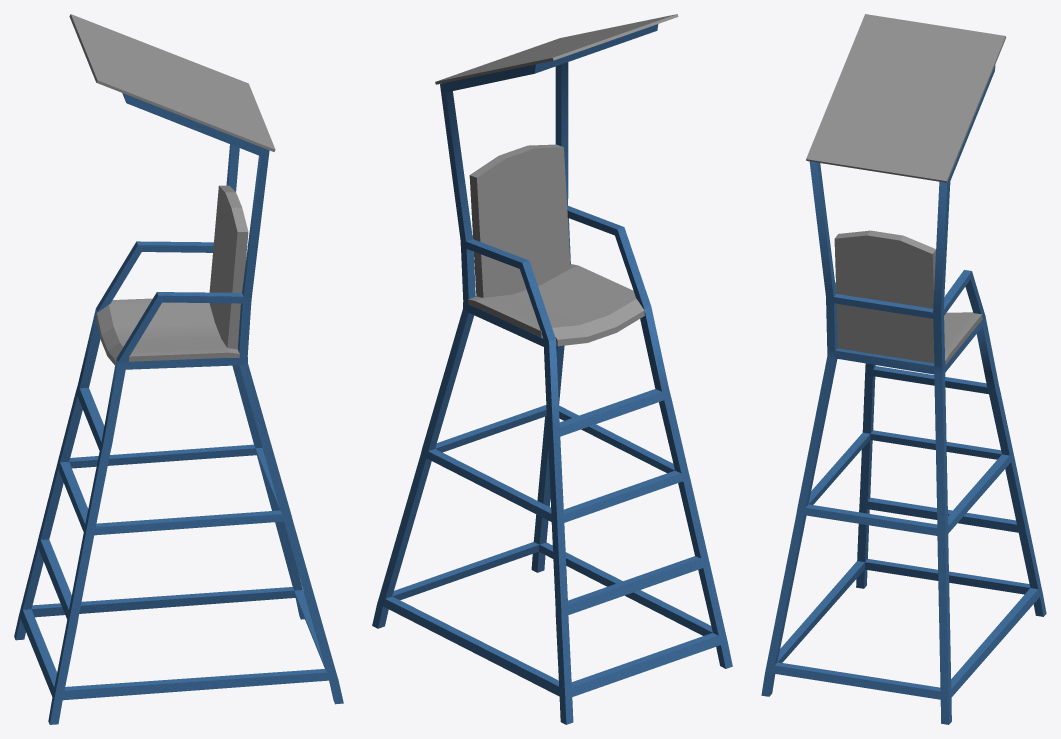
File: umpire chair.fbx
3 renders of one model, left to right at view 1: azimuth 30°, elevation 25°; view 2: azimuth 150°, elevation 25°; view 3: azimuth 270°, elevation 25°, orthographic. The views are drawn at different scales.
Visible parts, largest first — view 1: chair; view 2: chair; view 3: chair.
Part boxes in pixels (left/top/right/bottom): chair: left=14, top=14, right=343, bottom=724; chair: left=372, top=14, right=732, bottom=724; chair: left=761, top=14, right=1046, bottom=724.
Bounding box in the file's own units: 57.29 × 113 × 49.04.
Materials: 2 (1 with a texture image).
